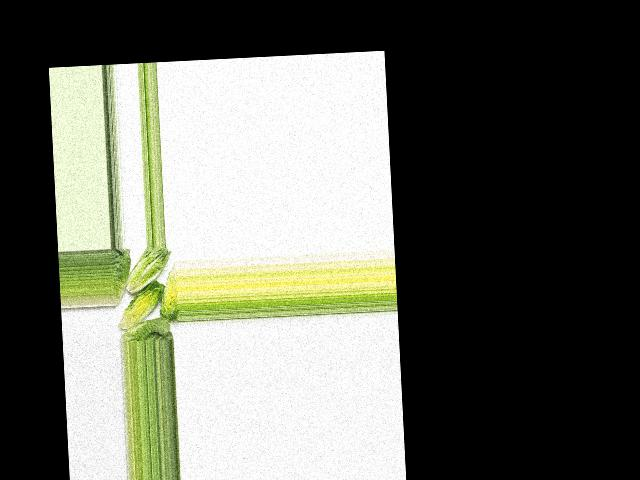lettuce: (120, 315, 173, 342)
